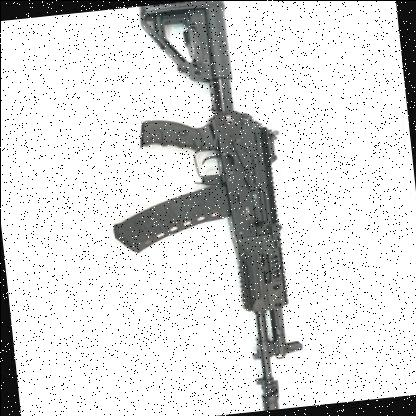rifle: (90, 0, 340, 416)
